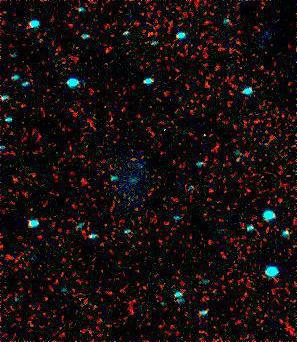star: (93, 34, 123, 64)
